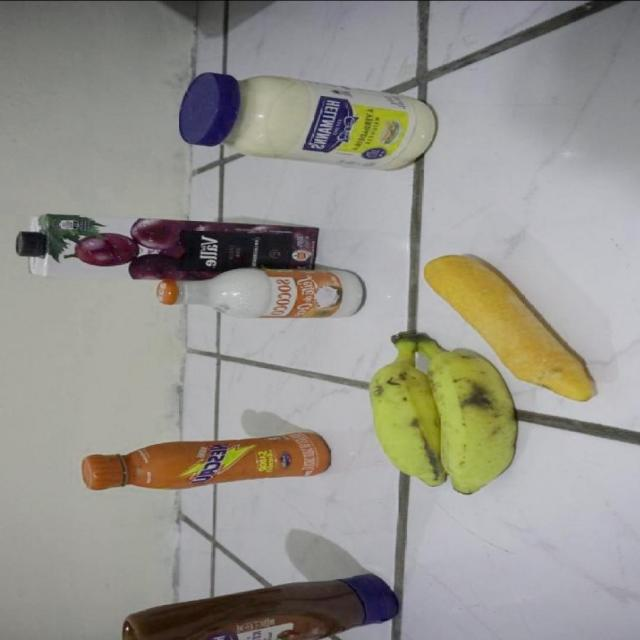Banana: (369, 331, 517, 494)
Carrot: (422, 254, 602, 401)
ChocolateMilk: (79, 432, 339, 492)
CoconutMilk: (154, 266, 366, 321)
Ketchup: (120, 573, 398, 640)
Mayonnaise: (180, 71, 439, 172)
